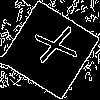X: (25, 25, 78, 68)
